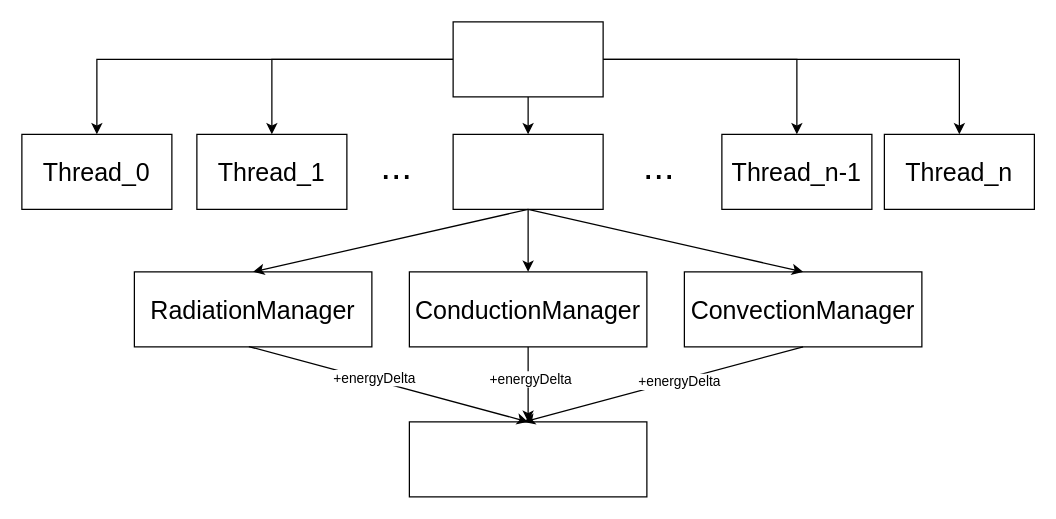
This 1056x519 diagram has some shape labels left out. The centre of each missing label's shape, as x and y in pixels:
"Engine" goes at (527,59).
"EngineObject" goes at (527,459).
"Thread_k" goes at (527,171).
